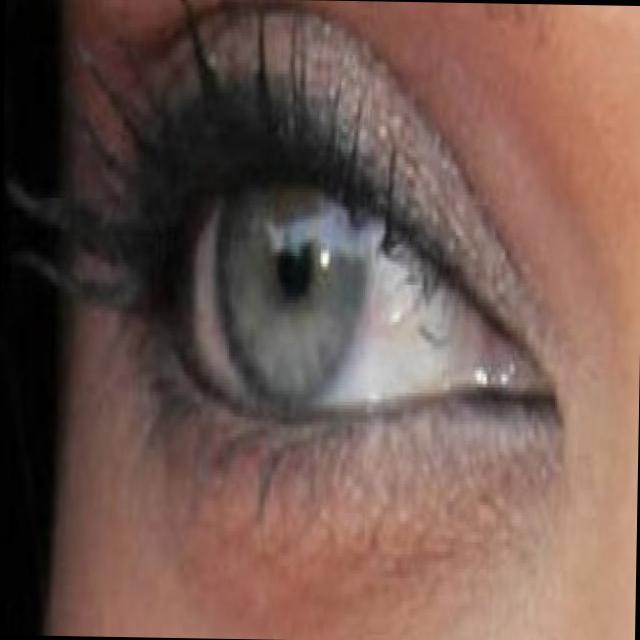Normal: (62, 29, 572, 506)
